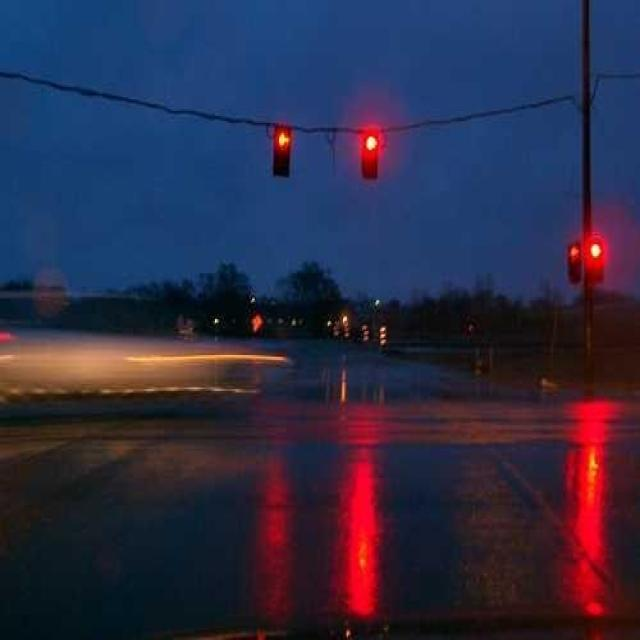Traffic Light -Red-: (268, 126, 294, 183), (358, 132, 381, 184), (585, 238, 607, 288)
